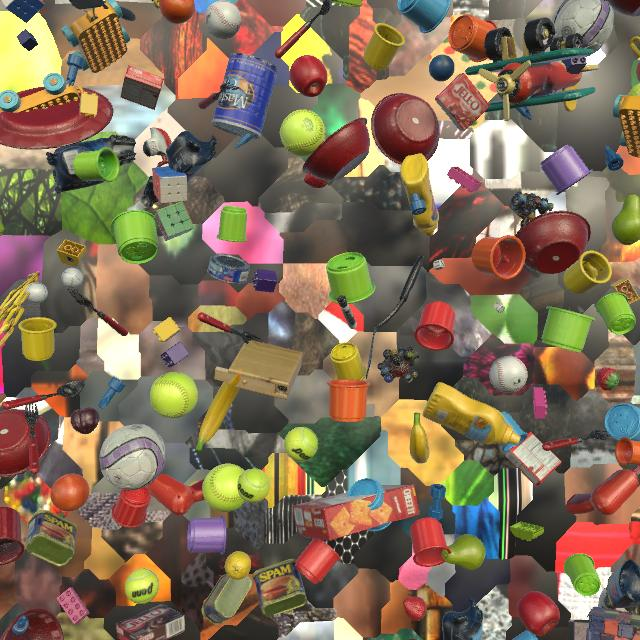ycb_002_master_chef_can: (211, 53, 279, 139)
ycb_003_cracker_box: (293, 485, 420, 541)
ycb_006_mustard_bottle: (422, 382, 521, 445), (400, 153, 439, 236), (69, 638, 76, 640)
ycb_007_tuna_fish_can: (207, 253, 250, 284)
ycb_008_pudding_box: (116, 604, 185, 640)
ycb_009_gelatin_box: (435, 73, 491, 131), (505, 432, 562, 487), (120, 65, 164, 110)
ycb_010_potted_meat_can: (252, 559, 307, 617), (26, 510, 78, 567), (201, 574, 253, 625), (636, 607, 640, 615)
ycb_011_banana: (196, 368, 243, 452), (410, 412, 430, 464)
ycb_012_strawberry: (403, 596, 427, 621), (596, 368, 620, 391), (304, 172, 329, 188)
ycb_013_apple: (517, 591, 560, 636), (289, 55, 328, 97)
ycb_014_lemon: (225, 551, 251, 580)
ycb_016_pear: (442, 534, 486, 570), (612, 194, 640, 245), (0, 219, 4, 236)
ycb_017_orange: (50, 474, 89, 511), (159, 0, 195, 24), (636, 61, 640, 82)
ycb_018_plum: (70, 407, 100, 434)
